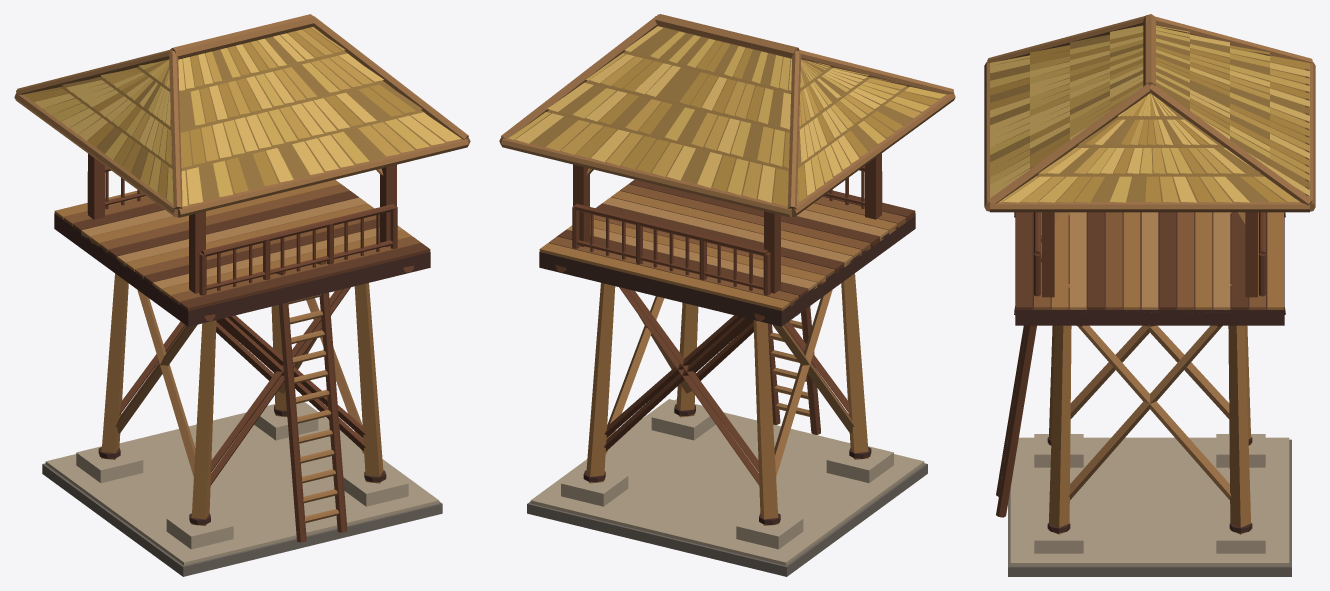
The model's file is watch-nivel-2.glb.
3 renders of one model, left to right at view 1: azimuth 30°, elevation 25°; view 2: azimuth 150°, elevation 25°; view 3: azimuth 270°, elevation 25°, orthographic.
Visible parts, largest first — view 1: Vigia 02 #b4a38a, Vigia 02 #70432c, Vigia 02 #9f7145, Vigia 02 #a87642, Vigia 02 #92703a, Vigia 02 #d4ae5e, Vigia 02 #683f2a, Vigia 02 #ab843d, Vigia 02 #4c3028, Vigia 02 #c8a452, Vigia 02 #bc9549, Vigia 02 #8b5c37 (+2 smaller); view 2: Vigia 02 #b4a38a, Vigia 02 #a87642, Vigia 02 #70432c, Vigia 02 #9f7145, Vigia 02 #92703a, Vigia 02 #d4ae5e, Vigia 02 #ab843d, Vigia 02 #c8a452, Vigia 02 #4c3028, Vigia 02 #bc9549, Vigia 02 #8b5c37, Vigia 02 #683f2a (+2 smaller); view 3: Vigia 02 #b4a38a, Vigia 02 #9f7145, Vigia 02 #92703a, Vigia 02 #a87642, Vigia 02 #d4ae5e, Vigia 02 #ab843d, Vigia 02 #bc9549, Vigia 02 #4c3028, Vigia 02 #c8a452, Vigia 02 #683f2a, Vigia 02 #70432c, Vigia 02 #b68755 (+2 smaller).
Part boxes in pixels (x1,y1,x2,y2): Vigia 02 #b4a38a: [45, 402, 439, 565]; Vigia 02 #70432c: [87, 153, 413, 542]; Vigia 02 #9f7145: [14, 14, 470, 522]; Vigia 02 #a87642: [54, 179, 412, 525]; Vigia 02 #92703a: [31, 27, 446, 204]; Vigia 02 #d4ae5e: [34, 33, 461, 206]; Vigia 02 #683f2a: [72, 191, 430, 311]; Vigia 02 #ab843d: [23, 27, 415, 198]; Vigia 02 #4c3028: [54, 213, 430, 525]; Vigia 02 #c8a452: [43, 48, 429, 204]; Vigia 02 #bc9549: [101, 27, 414, 185]; Vigia 02 #8b5c37: [63, 184, 420, 305]; Vigia 02 #b4a38a: [530, 399, 924, 565]; Vigia 02 #a87642: [539, 190, 897, 525]; Vigia 02 #70432c: [555, 153, 882, 485]; Vigia 02 #9f7145: [499, 14, 955, 477]; Vigia 02 #92703a: [515, 27, 938, 202]; Vigia 02 #d4ae5e: [515, 26, 886, 202]; Vigia 02 #ab843d: [576, 40, 938, 206]; Vigia 02 #c8a452: [508, 31, 946, 195]; Vigia 02 #4c3028: [539, 213, 915, 524]; Vigia 02 #bc9549: [546, 56, 920, 198]; Vigia 02 #8b5c37: [548, 184, 906, 306]; Vigia 02 #683f2a: [557, 179, 915, 297]; Vigia 02 #b4a38a: [1010, 434, 1289, 565]; Vigia 02 #9f7145: [984, 14, 1315, 499]; Vigia 02 #92703a: [990, 26, 1309, 202]; Vigia 02 #a87642: [1048, 212, 1283, 534]; Vigia 02 #d4ae5e: [990, 25, 1309, 202]; Vigia 02 #ab843d: [990, 32, 1309, 202]; Vigia 02 #bc9549: [990, 40, 1309, 202]; Vigia 02 #4c3028: [1015, 212, 1284, 533]; Vigia 02 #c8a452: [990, 25, 1309, 202]; Vigia 02 #683f2a: [1016, 212, 1248, 312]; Vigia 02 #70432c: [996, 212, 1285, 517]; Vigia 02 #b68755: [1069, 212, 1230, 312].
Bounding box in the file's own units: 4.82 × 7.17 × 4.62.
